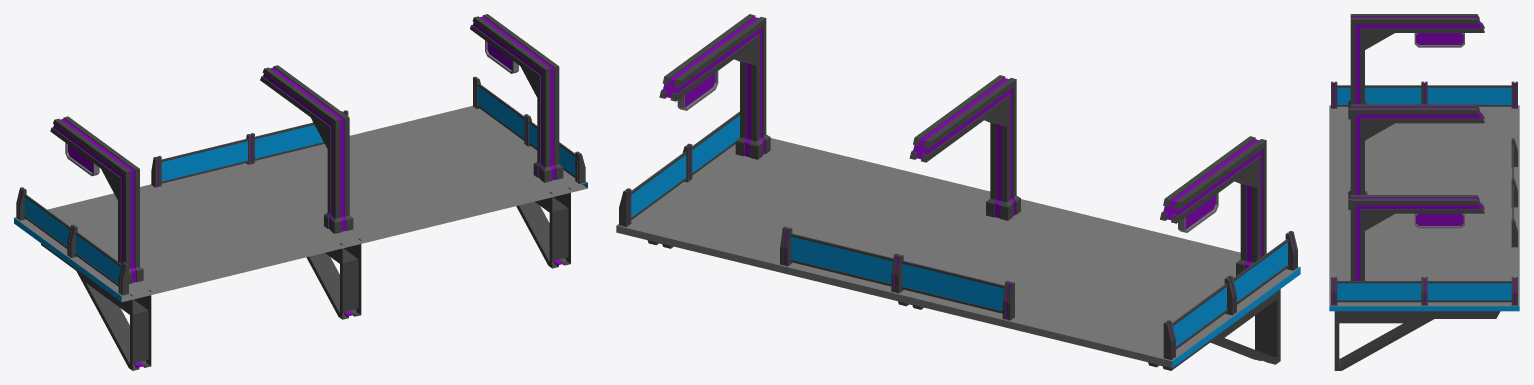
File: KF_Train_Station.fbx
3 views of the same model, side by side, from view 1: azimuth 30°, elevation 25°; view 2: azimuth 150°, elevation 25°; view 3: azimuth 270°, elevation 25° (orthographic). The views are drawn at different scales.
Visible parts, largest first — view 1: KF_Train_Station; view 2: KF_Train_Station; view 3: KF_Train_Station.
Part boxes in pixels (x1,y1,x2,y2): KF_Train_Station: (14,14,587,370); KF_Train_Station: (616,14,1300,370); KF_Train_Station: (1329,14,1519,370).
Bounding box in the file's own units: 5000 × 1962 × 2000.
